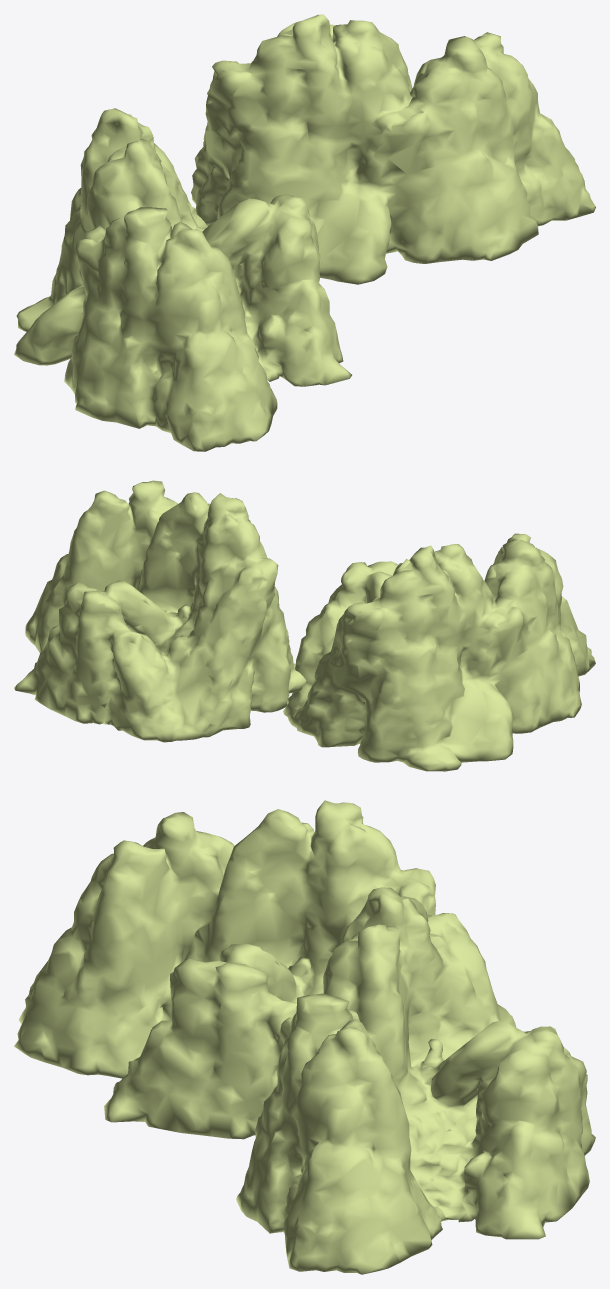
The model's file is Piedra grande 1.fbx.
3 renders of one model, top to bottom at view 1: azimuth 30°, elevation 25°; view 2: azimuth 150°, elevation 25°; view 3: azimuth 270°, elevation 25°, orthographic. The views are drawn at different scales.
Parts seen in each view (by area): view 1: Rock_Small006; view 2: Rock_Small006; view 3: Rock_Small006.
Boxes of the visible parts, box(x1,y1,x2,y2) form: Rock_Small006: box(14, 14, 595, 451); Rock_Small006: box(14, 480, 595, 771); Rock_Small006: box(14, 800, 595, 1274).
Size of the model in its own units: 55376 by 22970 by 43424.
